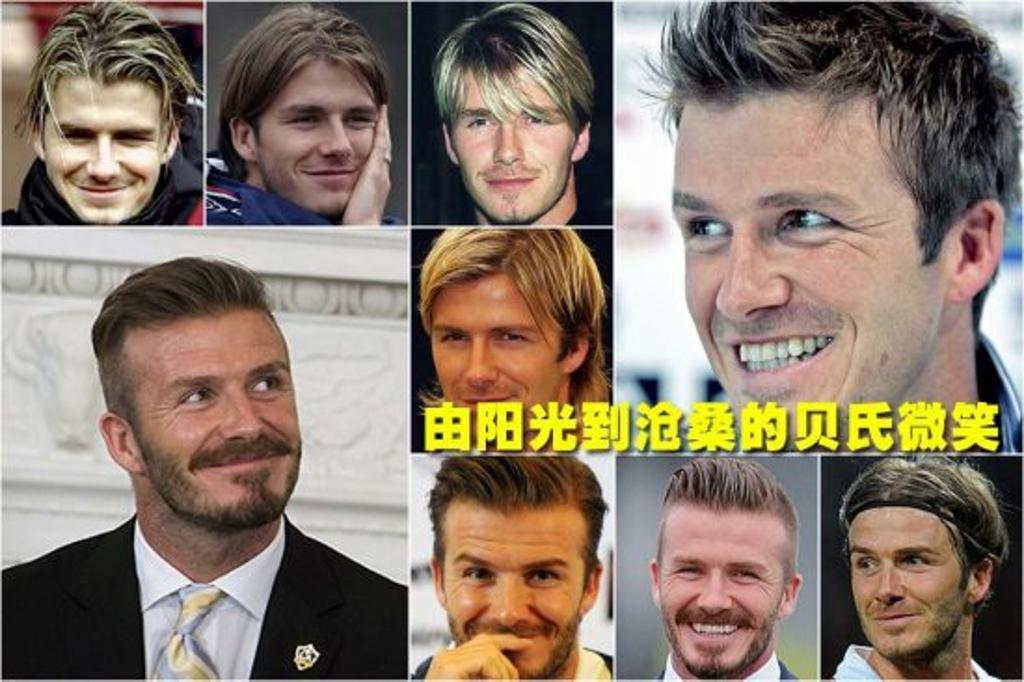face: (680, 94, 952, 428), (146, 296, 302, 504), (448, 494, 582, 670), (662, 488, 786, 678), (450, 58, 578, 228), (438, 258, 554, 434), (44, 70, 170, 224), (852, 498, 962, 666), (264, 58, 376, 206)
